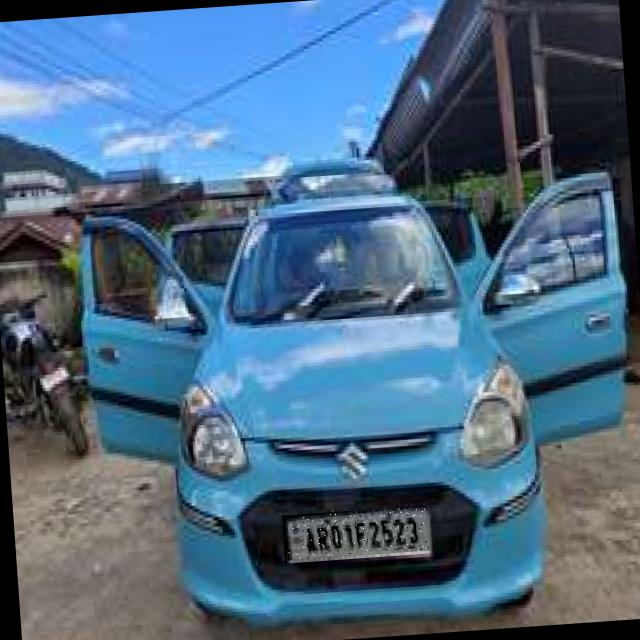Plate: (283, 506, 431, 561)
